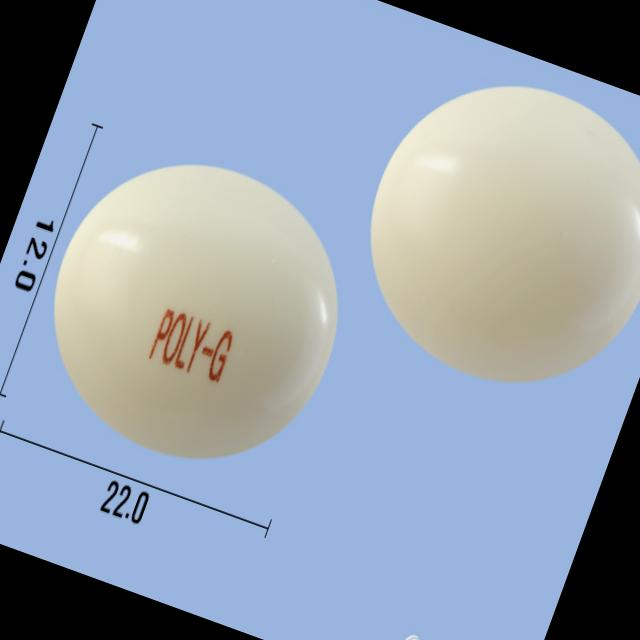Poly G Vaginal Soft Cap: (13, 122, 380, 496)
